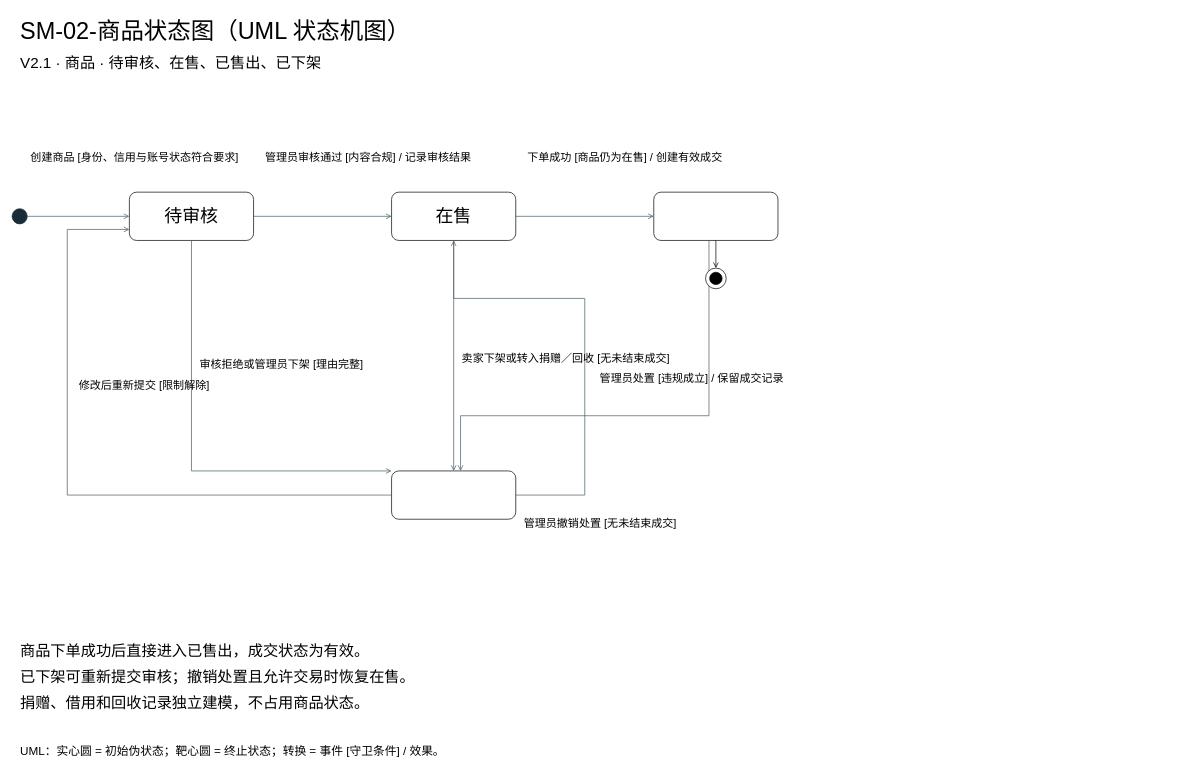
The diagram is 1190 pixels wide and 776 high, and some of its shapes have lost their labels. Here are the shapes that lost their labels. From the top down, the centre of each, then its label:
At [715,215]: "已售出".
At [453,494]: "已下架".
